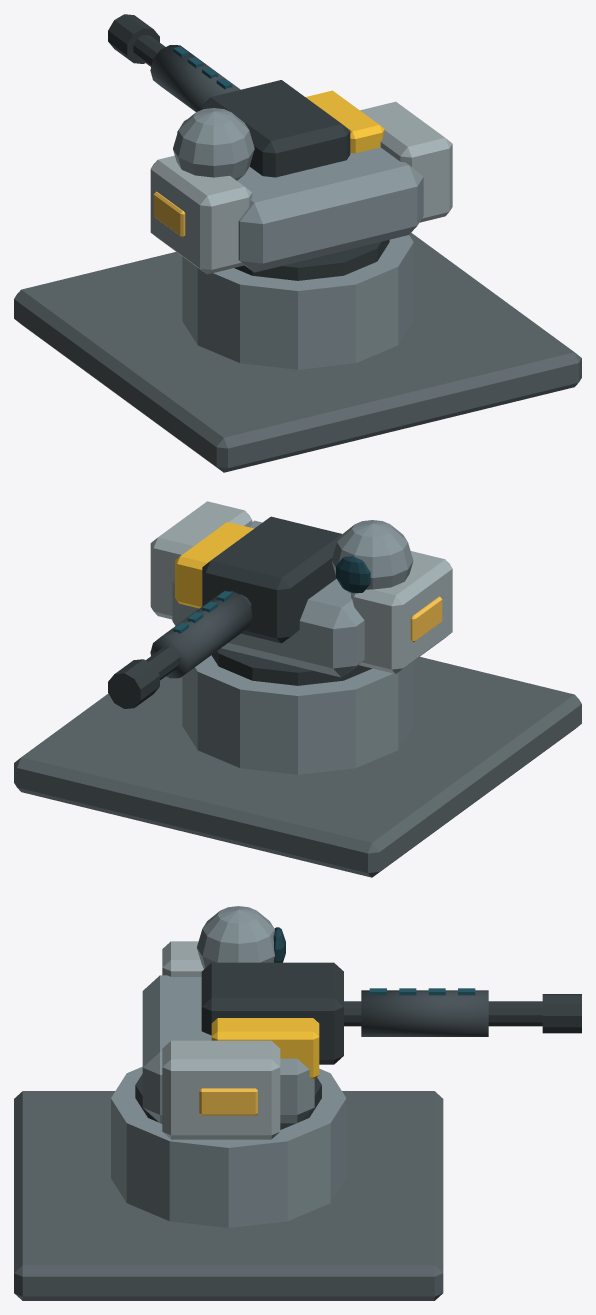
File: MOD_Autocannon_U1.fbx
The picture shows the model from 3 angles, top to bottom: view 1: azimuth 30°, elevation 25°; view 2: azimuth 150°, elevation 25°; view 3: azimuth 270°, elevation 25°; orthographic projection.
Visible parts, largest first — view 1: ModuleDeck, FixedPedestal, TurretCarriage, GunReceiver, U1 Port ammunition box, U1 Starboard ammunition box, EOIRHead, U1 barrel thermal jacket, FixedBearing, AmmoFeed, MuzzleBrake, U1 Port magazine latch (+1 smaller); view 2: ModuleDeck, FixedPedestal, GunReceiver, U1 Port ammunition box, TurretCarriage, U1 Starboard ammunition box, U1 barrel thermal jacket, EOIRHead, AmmoFeed, FixedBearing, MuzzleBrake, EOIRLens (+2 smaller); view 3: ModuleDeck, FixedPedestal, U1 Starboard ammunition box, GunReceiver, TurretCarriage, U1 barrel thermal jacket, EOIRHead, AmmoFeed, AutocannonBarrel, U1 Starboard magazine latch, MuzzleBrake, U1 Port ammunition box (+1 smaller).
Boxes of the visible parts, bbox=[...] form: ModuleDeck: bbox=[14, 232, 581, 472]; FixedPedestal: bbox=[182, 235, 413, 369]; TurretCarriage: bbox=[237, 147, 423, 272]; GunReceiver: bbox=[202, 80, 350, 177]; U1 Port ammunition box: bbox=[150, 155, 252, 274]; U1 Starboard ammunition box: bbox=[360, 101, 452, 222]; EOIRHead: bbox=[173, 108, 254, 180]; U1 barrel thermal jacket: bbox=[150, 45, 240, 111]; FixedBearing: bbox=[234, 239, 389, 280]; AmmoFeed: bbox=[305, 90, 384, 153]; MuzzleBrake: bbox=[108, 14, 159, 63]; U1 Port magazine latch: bbox=[153, 191, 185, 237]; ModuleDeck: bbox=[14, 657, 581, 877]; FixedPedestal: bbox=[182, 655, 413, 774]; GunReceiver: bbox=[202, 516, 341, 643]; U1 Port ammunition box: bbox=[351, 551, 452, 673]; TurretCarriage: bbox=[172, 520, 364, 677]; U1 Starboard ammunition box: bbox=[150, 501, 252, 619]; U1 barrel thermal jacket: bbox=[150, 591, 252, 678]; EOIRHead: bbox=[331, 520, 413, 593]; AmmoFeed: bbox=[175, 522, 253, 608]; FixedBearing: bbox=[211, 648, 372, 685]; MuzzleBrake: bbox=[108, 659, 159, 708]; EOIRLens: bbox=[336, 556, 370, 593]; ModuleDeck: bbox=[14, 1091, 443, 1300]; FixedPedestal: bbox=[111, 1066, 346, 1227]; U1 Starboard ammunition box: bbox=[162, 1040, 280, 1139]; GunReceiver: bbox=[201, 962, 343, 1064]; TurretCarriage: bbox=[142, 975, 314, 1123]; U1 barrel thermal jacket: bbox=[361, 990, 488, 1036]; EOIRHead: bbox=[197, 906, 274, 968]; AmmoFeed: bbox=[211, 1018, 319, 1079]; AutocannonBarrel: bbox=[344, 1001, 542, 1026]; U1 Starboard magazine latch: bbox=[199, 1088, 257, 1115]; MuzzleBrake: bbox=[542, 994, 581, 1033]; U1 Port ammunition box: bbox=[162, 941, 203, 976].
Size of the model in its own units: 175 by 119 by 232.
